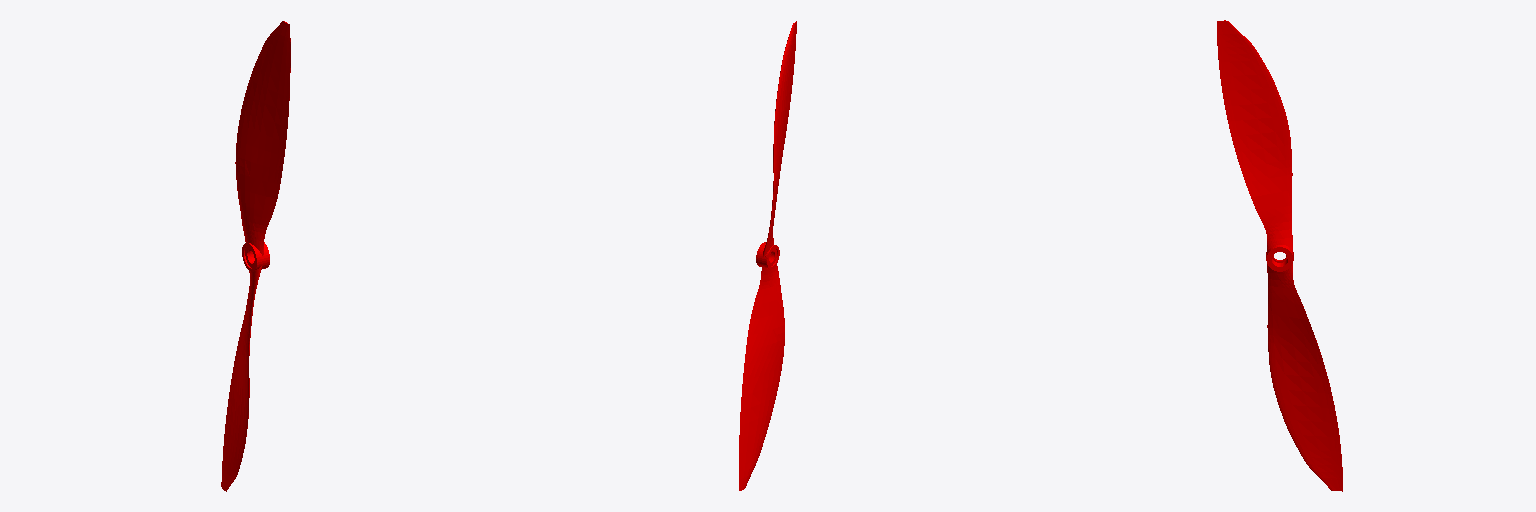
robot.urdf — plane:
<?xml version="1.0"?>

<robot name="plane">
	<link name="base_link">
		<visual>
			<geometry>
				<mesh filename="package://last_letter/data/parameters/aircraft/firefly_Y6/urdf/firefly_Y6.stl" scale="0.02621 0.02621 0.02621"/>
			</geometry>
			<material name="redYouth">
				<color rgba="1.0 0.0 0.0 1"/>
			</material>
		</visual>
	</link>

	<link name="propeller_1">
		<visual>
			<geometry>
				<mesh filename="package://last_letter/data/parameters/aircraft/firefly_Y6/urdf/10x4.7.stl"/>
			</geometry>
			<material name="redYouth"/>
		</visual>
	</link>

	<link name="propeller_2">
		<visual>
			<geometry>
				<mesh filename="package://last_letter/data/parameters/aircraft/firefly_Y6/urdf/10x4.7.stl"/>
			</geometry>
			<material name="redYouth"/>
		</visual>
	</link>

	<link name="propeller_3">
		<visual>
			<geometry>
				<mesh filename="package://last_letter/data/parameters/aircraft/firefly_Y6/urdf/10x4.7.stl"/>
			</geometry>
			<material name="redYouth"/>
		</visual>
	</link>

	<joint name="motor_mount_1" type="floating">
		<parent link="base_link"/>
		<child link="propeller_1"/>
	</joint>

	<joint name="motor_mount_2" type="floating">
		<parent link="base_link"/>
		<child link="propeller_2"/>
	</joint>

	<joint name="motor_mount_3" type="floating">
		<parent link="base_link"/>
		<child link="propeller_3"/>
	</joint>

</robot>

--- Render facts (derived) ---
Views: 3 orthographic renders of the robot side by side, from view 1: azimuth 30°, elevation 25°; view 2: azimuth 150°, elevation 25°; view 3: azimuth 270°, elevation 25°.
Model plane with 4 links and 3 joints (3 floating), rooted at base_link, posed all joints at 0.
Links seen in each view (by area): view 1: propeller_1; view 2: propeller_1; view 3: propeller_1.
Link boxes in pixels (box(x1,y1,x2,y2)): propeller_1: box(221, 21, 290, 491); propeller_1: box(739, 21, 796, 490); propeller_1: box(1217, 20, 1342, 491).
Size in the robot's own frame: 0.0105 by 0.06 by 0.2464 metres.
Meshes: 2 distinct files referenced, 3 mesh visuals loaded (1 binary STL); not drawn: 1 (reference not matched to a file when rendering).